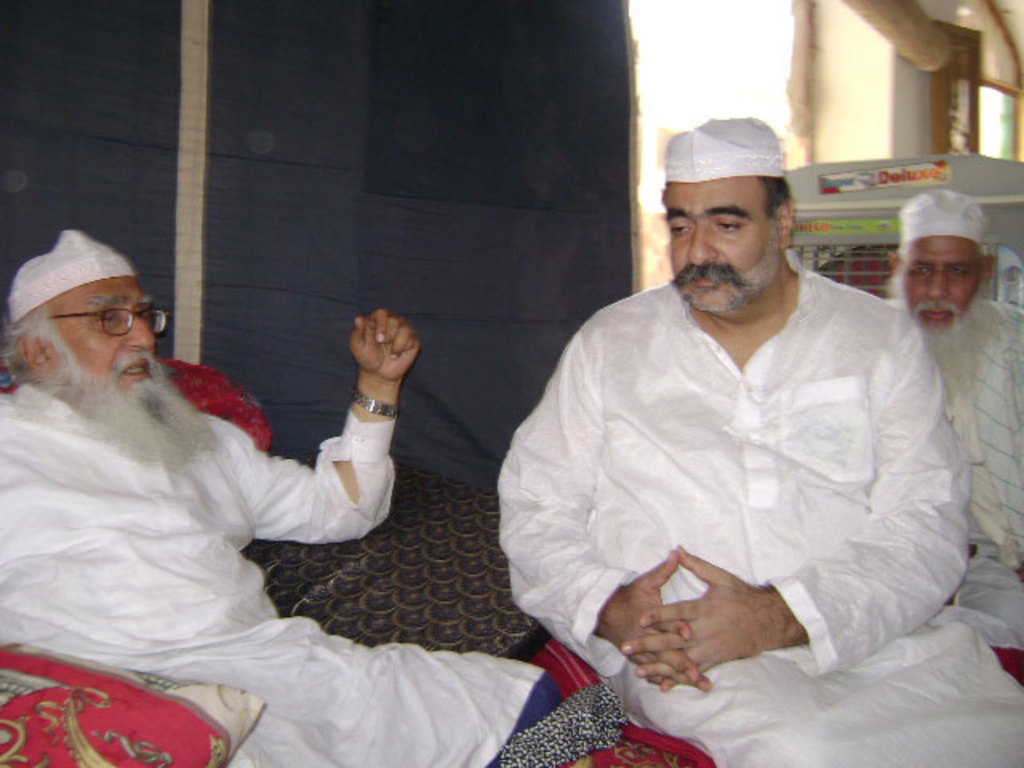face: (899, 231, 982, 331)
